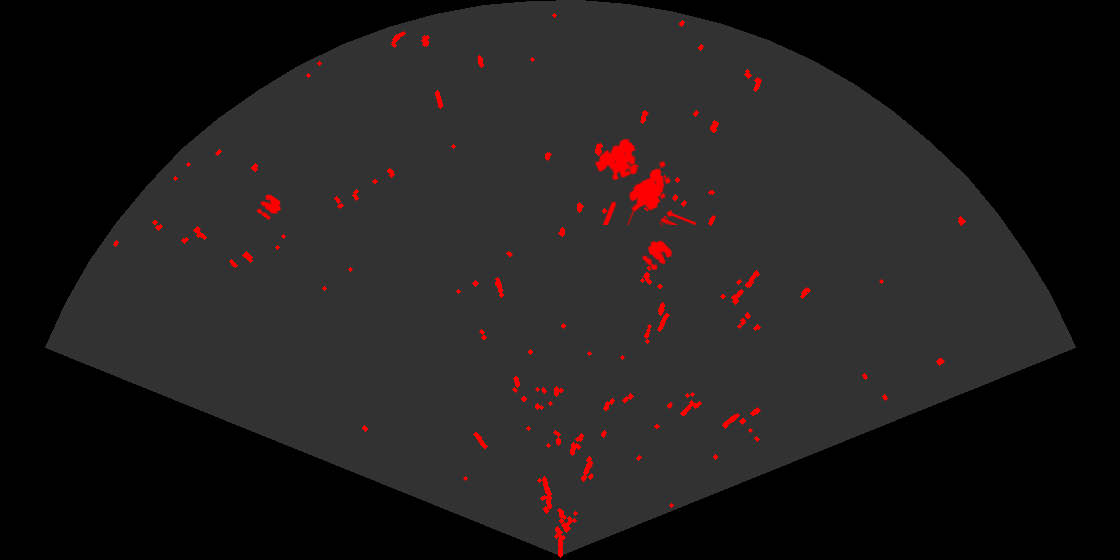ball: (641, 239, 674, 272), (255, 193, 283, 221)
cage: (593, 137, 696, 225)
